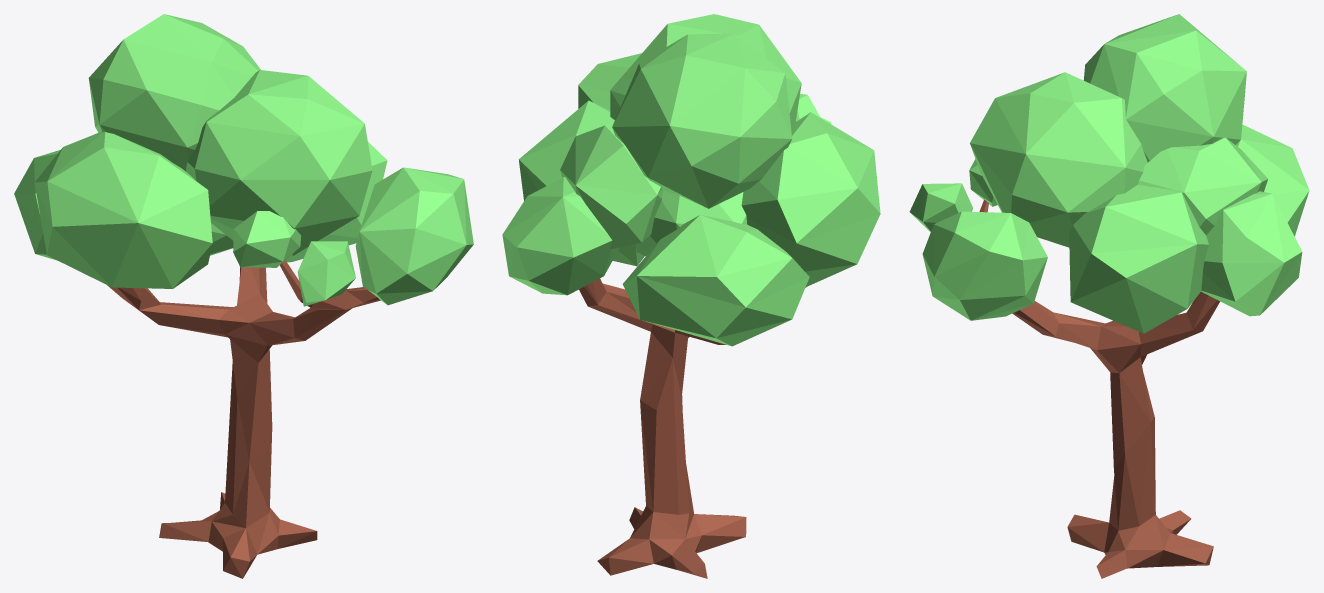
Rendered from Tree_1.fbx.
3 views of the same model, side by side, from view 1: azimuth 30°, elevation 25°; view 2: azimuth 150°, elevation 25°; view 3: azimuth 270°, elevation 25° (orthographic). The views are drawn at different scales.
Parts seen in each view (by area): view 1: Icosphere.007, Icosphere.003, Plane.002, Icosphere.011, Icosphere.004, Icosphere.006, Icosphere.005, Icosphere.002, Icosphere.008; view 2: Icosphere.011, Icosphere.002, Plane.002, Icosphere.003, Icosphere.001, Icosphere, Icosphere.007, Icosphere.008, Icosphere.009, Icosphere.004; view 3: Icosphere.007, Plane.002, Icosphere.008, Icosphere.011, Icosphere.004, Icosphere.001, Icosphere, Icosphere.002, Icosphere.005, Icosphere.006.
Boxes of the visible parts, x1,y1,x2,y2 form: Icosphere.007: [186, 70, 372, 255]; Icosphere.003: [34, 131, 212, 288]; Plane.002: [107, 260, 380, 578]; Icosphere.011: [88, 14, 260, 171]; Icosphere.004: [355, 167, 473, 305]; Icosphere.006: [233, 211, 300, 267]; Icosphere.005: [297, 241, 355, 306]; Icosphere.002: [14, 150, 60, 260]; Icosphere.008: [285, 142, 387, 262]; Icosphere.011: [612, 33, 792, 208]; Icosphere.002: [622, 215, 809, 346]; Plane.002: [579, 278, 806, 578]; Icosphere.003: [741, 112, 880, 286]; Icosphere.001: [502, 177, 619, 295]; Icosphere: [560, 123, 662, 249]; Icosphere.007: [610, 14, 801, 124]; Icosphere.008: [518, 100, 644, 266]; Icosphere.009: [635, 190, 747, 256]; Icosphere.004: [578, 53, 641, 109]; Icosphere.007: [970, 72, 1147, 247]; Plane.002: [979, 199, 1219, 578]; Icosphere.008: [1069, 185, 1208, 333]; Icosphere.011: [1083, 14, 1246, 162]; Icosphere.004: [922, 211, 1047, 320]; Icosphere.001: [1201, 191, 1302, 316]; Icosphere: [1137, 137, 1267, 235]; Icosphere.002: [1236, 124, 1309, 236]; Icosphere.005: [909, 183, 972, 231]; Icosphere.006: [969, 159, 997, 206].
Size of the model in its own units: 955 by 1383 by 988.
